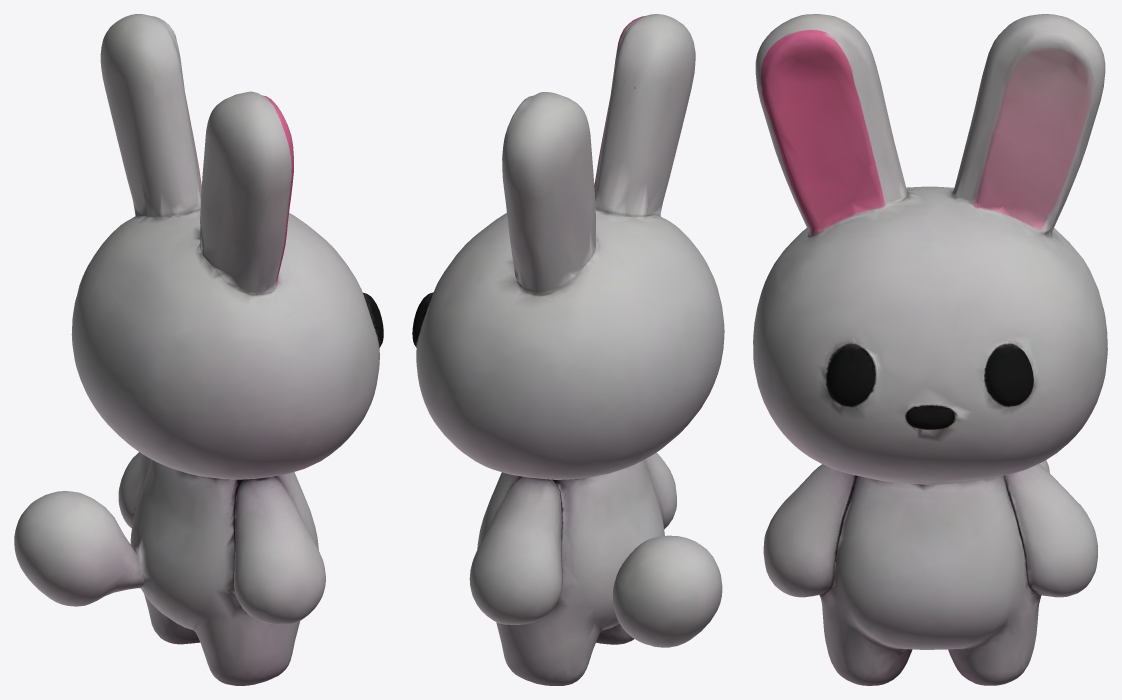
Rendered from rabbit.glb.
3 renders of one model, left to right at view 1: azimuth 30°, elevation 25°; view 2: azimuth 150°, elevation 25°; view 3: azimuth 270°, elevation 25°, orthographic. The views are drawn at different scales.
Parts seen in each view (by area): view 1: tripo_node_d7d55928-7753-46e6-9c60-4d6734dae034; view 2: tripo_node_d7d55928-7753-46e6-9c60-4d6734dae034; view 3: tripo_node_d7d55928-7753-46e6-9c60-4d6734dae034.
Part boxes in pixels (x1,y1,x2,y2): tripo_node_d7d55928-7753-46e6-9c60-4d6734dae034: (14,14,383,685); tripo_node_d7d55928-7753-46e6-9c60-4d6734dae034: (412,14,724,685); tripo_node_d7d55928-7753-46e6-9c60-4d6734dae034: (753,14,1107,685).
Bounding box in the file's own units: 0.536 × 0.9999 × 0.4967.
Materials: 1 (1 with a texture image).
